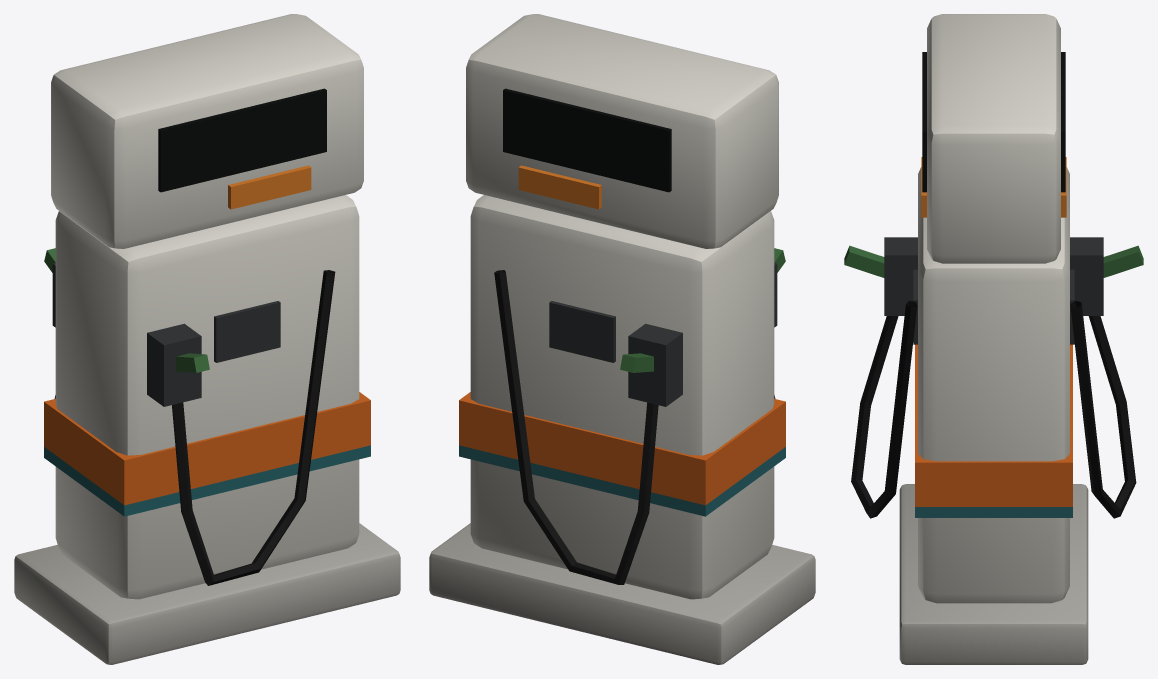
Rendered from fuel-pump.glb.
3 renders of one model, left to right at view 1: azimuth 30°, elevation 25°; view 2: azimuth 150°, elevation 25°; view 3: azimuth 270°, elevation 25°, orthographic.
Visible parts, largest first — view 1: Piece_lod0; view 2: Piece_lod0; view 3: Piece_lod0.
Part boxes in pixels (left/top/right/bottom): Piece_lod0: left=14, top=14, right=400, bottom=664; Piece_lod0: left=429, top=14, right=815, bottom=664; Piece_lod0: left=844, top=14, right=1143, bottom=664.
Size of what is drawn, in the model's own units: 1.1 by 1.91 by 0.9838.
